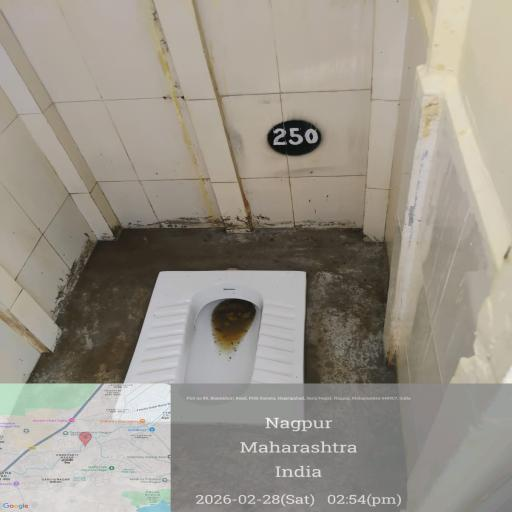clean_floor: (18, 9, 489, 196)
dirty_indian: (129, 230, 361, 446)
partial_dirty_floor: (52, 216, 448, 512)
